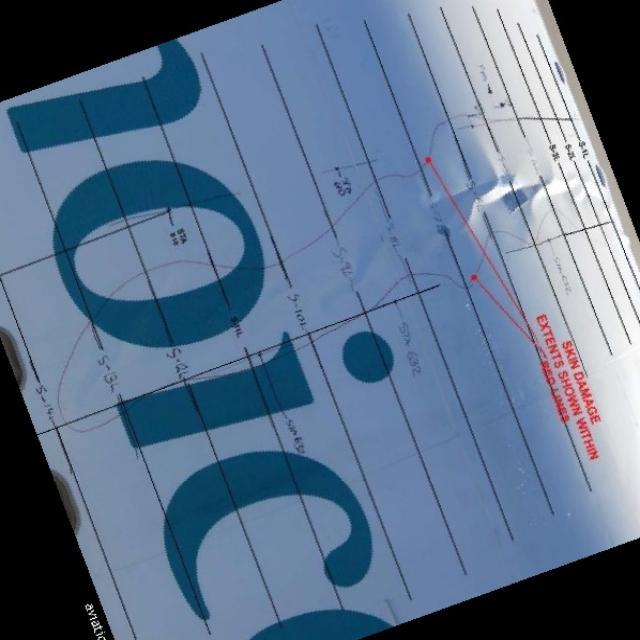dent: (299, 173, 613, 310)
